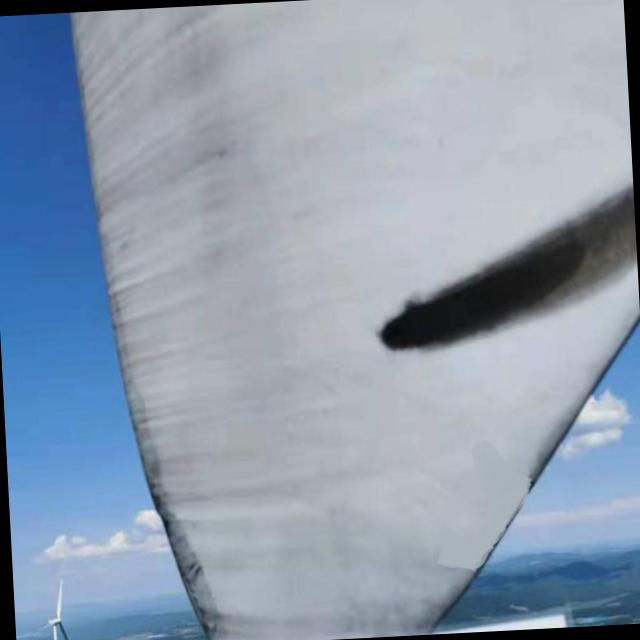crack: (367, 195, 640, 361)
